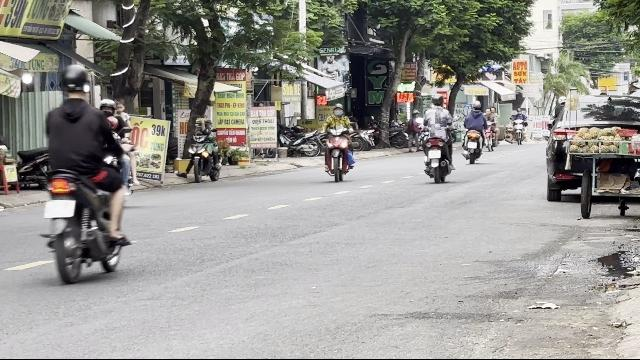helmet: (58, 64, 90, 102)
licenseplate: (45, 199, 75, 216)
motorcyclist: (38, 63, 132, 282)
